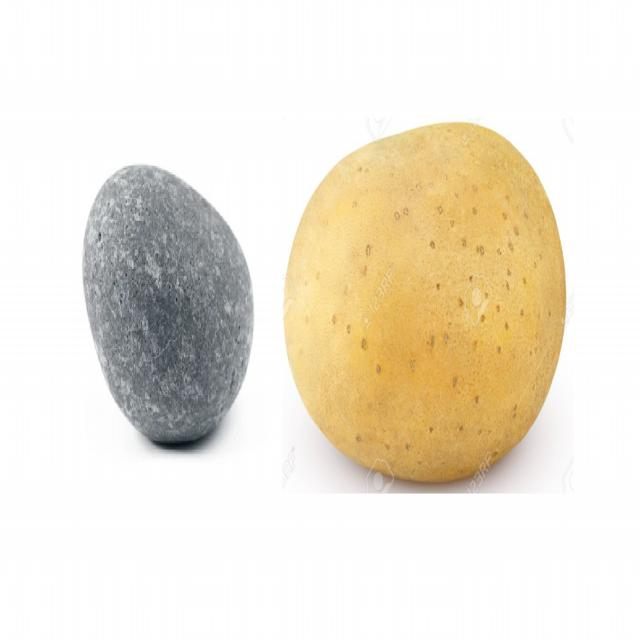potato: (284, 123, 566, 483)
